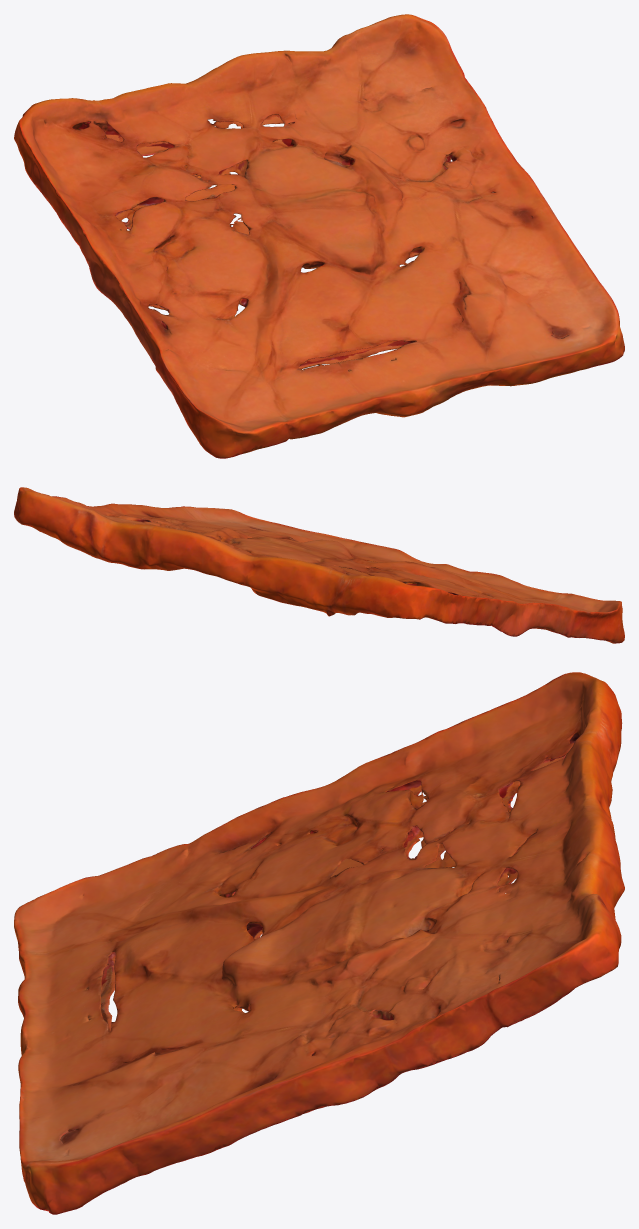
Rendered from Meshy_AI_a_flat_ice_tile_at_a_1115233219_texture.glb.
The picture shows the model from 3 angles, top to bottom: view 1: azimuth 30°, elevation 25°; view 2: azimuth 150°, elevation 25°; view 3: azimuth 270°, elevation 25°; orthographic projection. The views are drawn at different scales.
Bounding box in the file's own units: 2 × 0.9241 × 1.82.
Materials: 1 (1 with a texture image).
